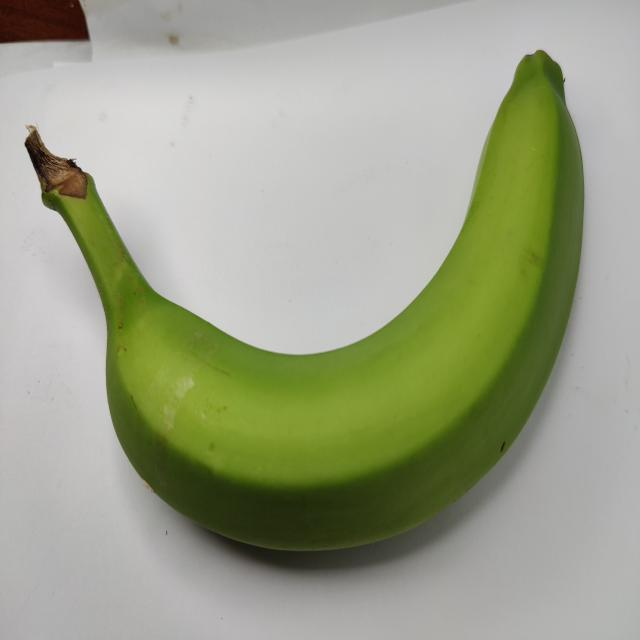raw: (22, 34, 596, 572)
